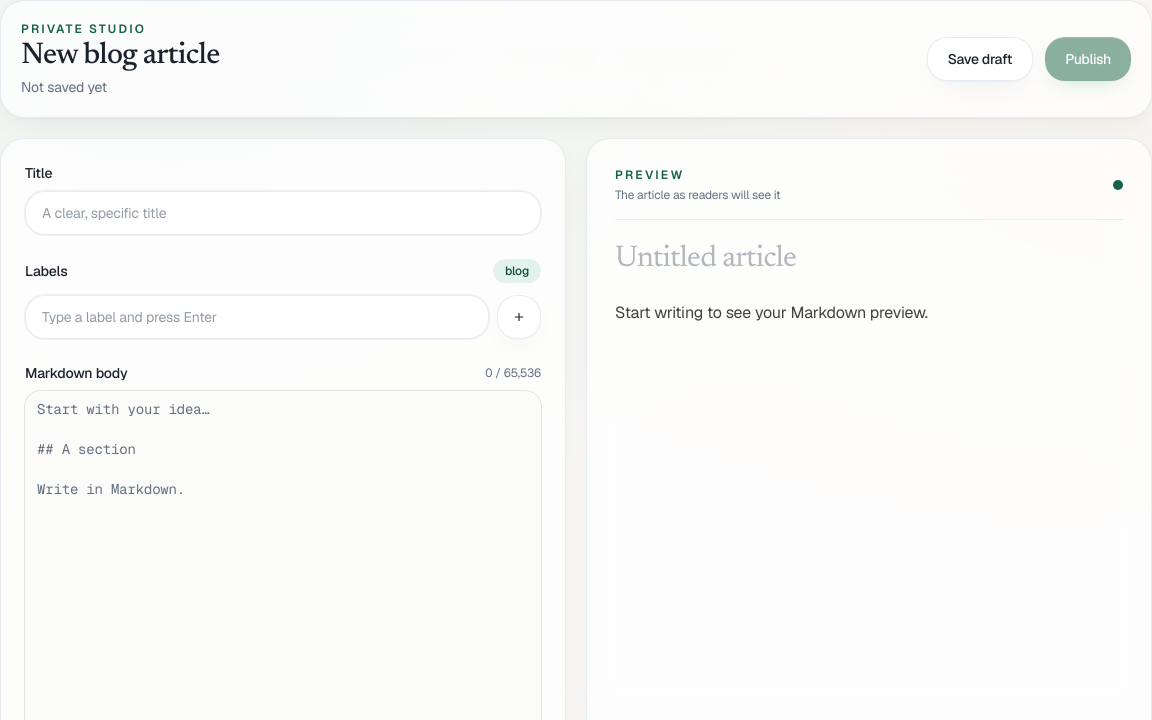
it: BlogEditor › adds and removes a custom label
This screenshot has width=1152, height=720.
In the field named "Add label": point(257, 316) [25,294,489,338], type "programming"
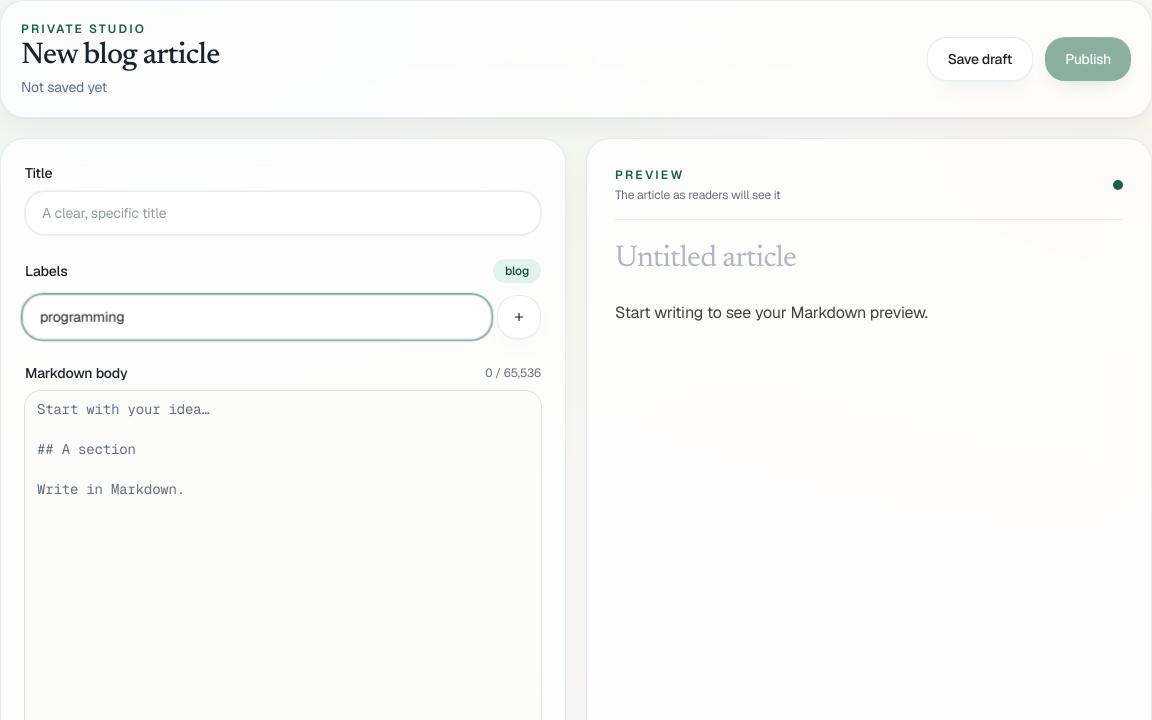
Press Enter
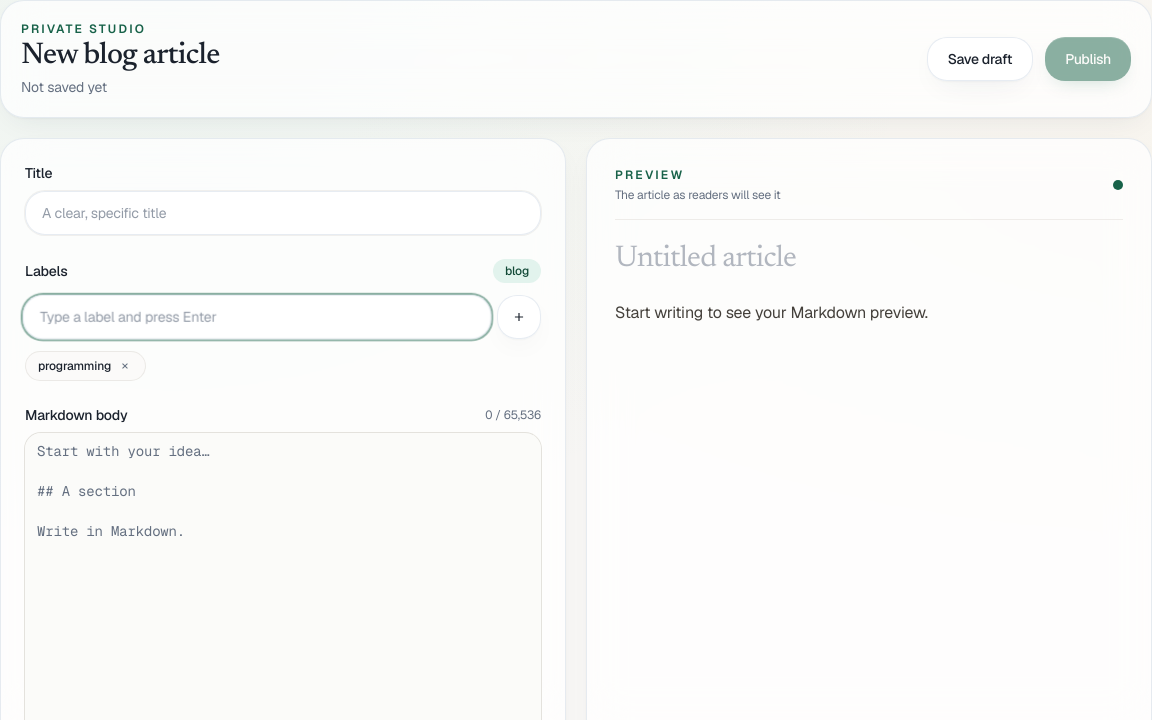
Expected: the text "programming" is shown, [25,350,146,380]
Click the button named "Remove programming label": point(125, 366) [117,358,133,374]
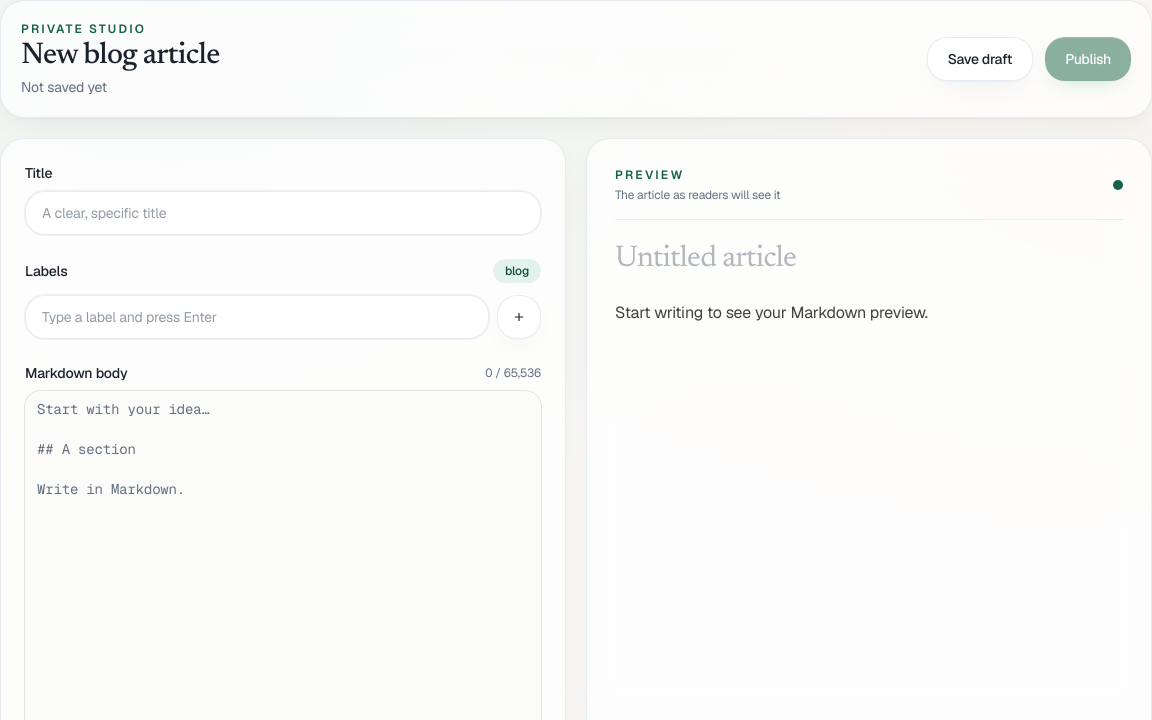
Expected: the text "programming" is gone
